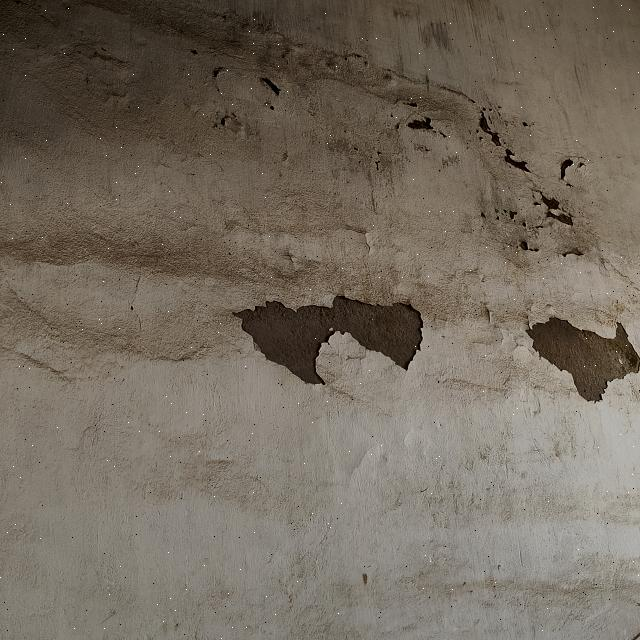peeling: (235, 296, 423, 384), (526, 317, 640, 401), (534, 192, 572, 225), (479, 113, 501, 146), (505, 149, 529, 172), (261, 77, 280, 95), (408, 118, 432, 129), (561, 158, 573, 179)
